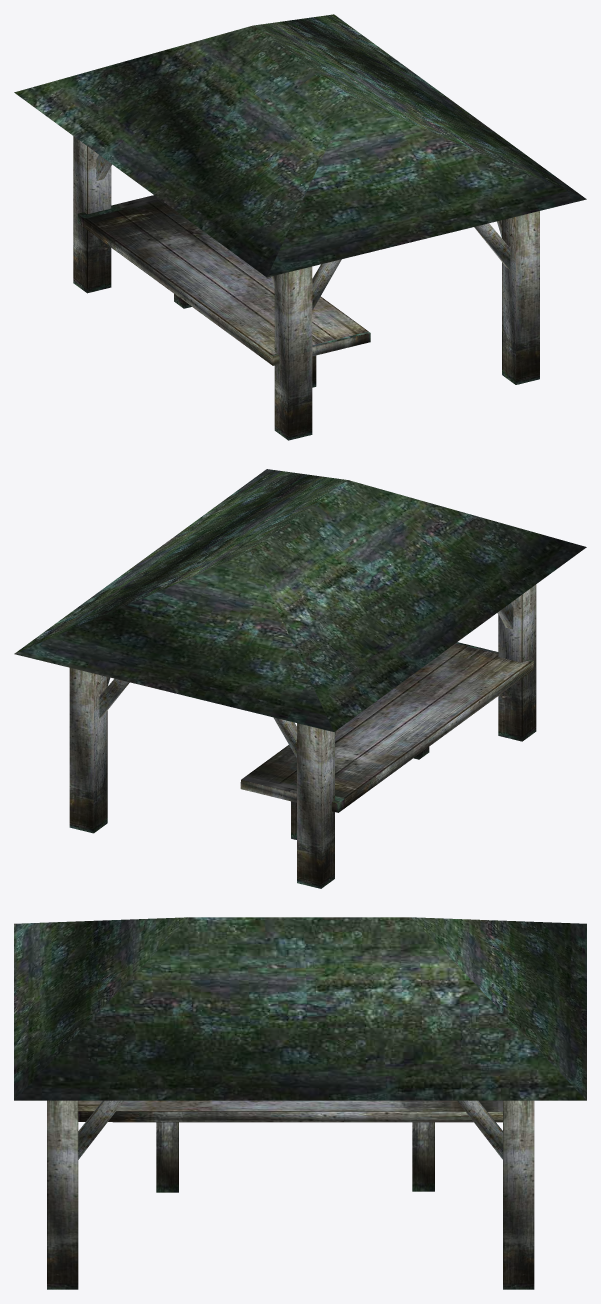
Rendered from house7-04.obj.
3 views of the same model, one above another, from view 1: azimuth 30°, elevation 25°; view 2: azimuth 150°, elevation 25°; view 3: azimuth 270°, elevation 25° (orthographic). The views are drawn at different scales.
Size of the model in its own units: 4.46 by 3.55 by 6.1.
Materials: 1 (1 with a texture image).
